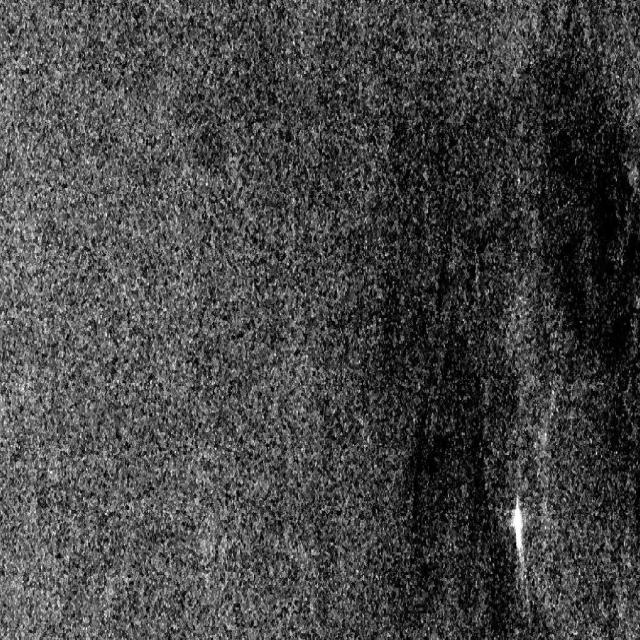look-alike: (368, 132, 498, 578), (533, 54, 633, 432)
